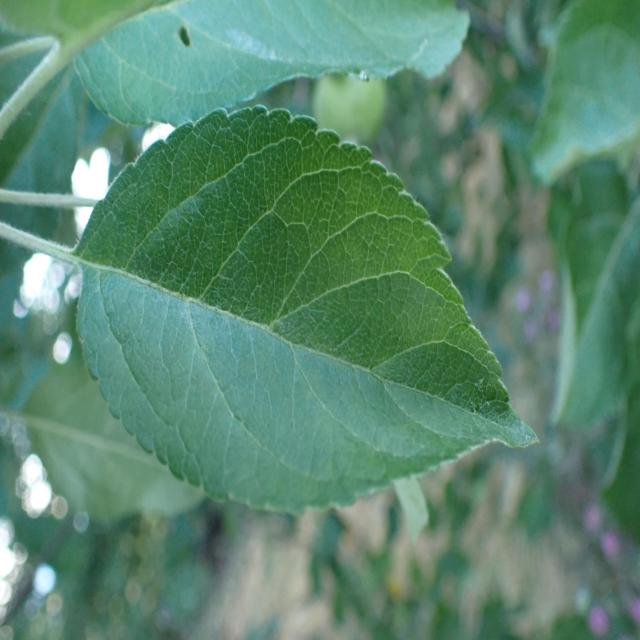healthy: (76, 103, 540, 515), (71, 0, 474, 128)
